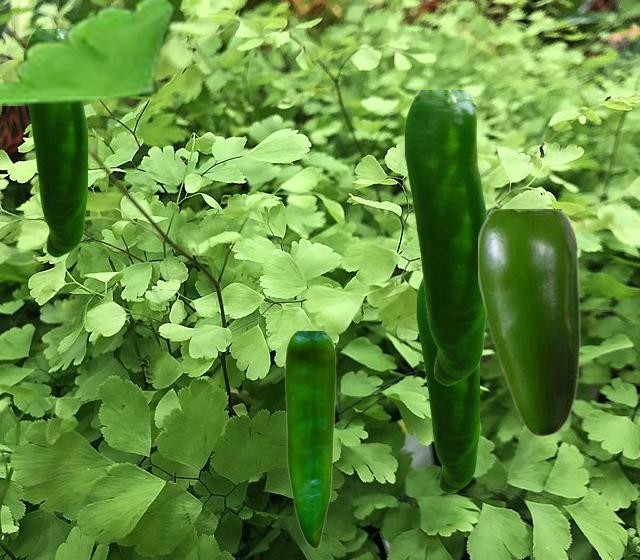green_chili: (404, 90, 486, 384), (478, 209, 579, 436), (23, 29, 86, 256), (416, 278, 478, 492), (284, 331, 335, 547)
